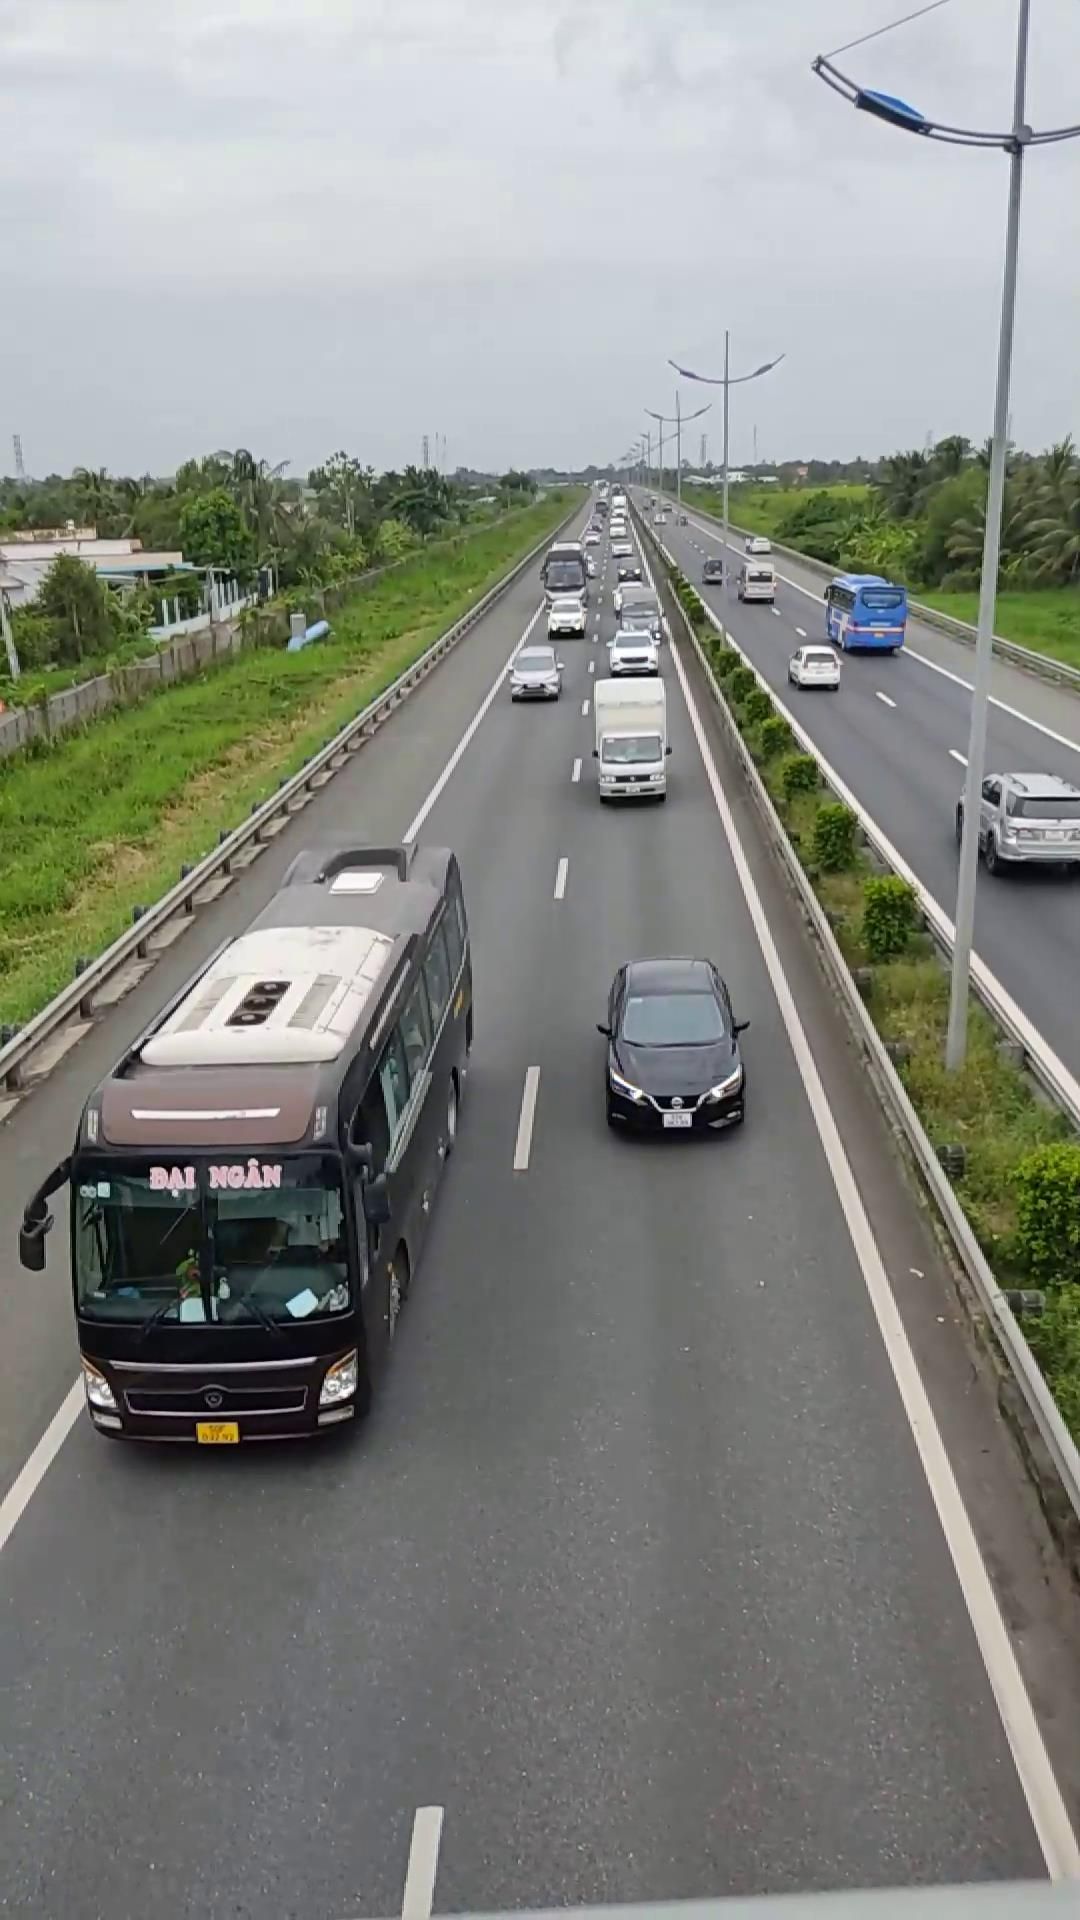bus: (33, 846, 476, 1445)
car: (595, 956, 748, 1136), (956, 753, 1078, 877)
truck: (587, 672, 676, 803)
